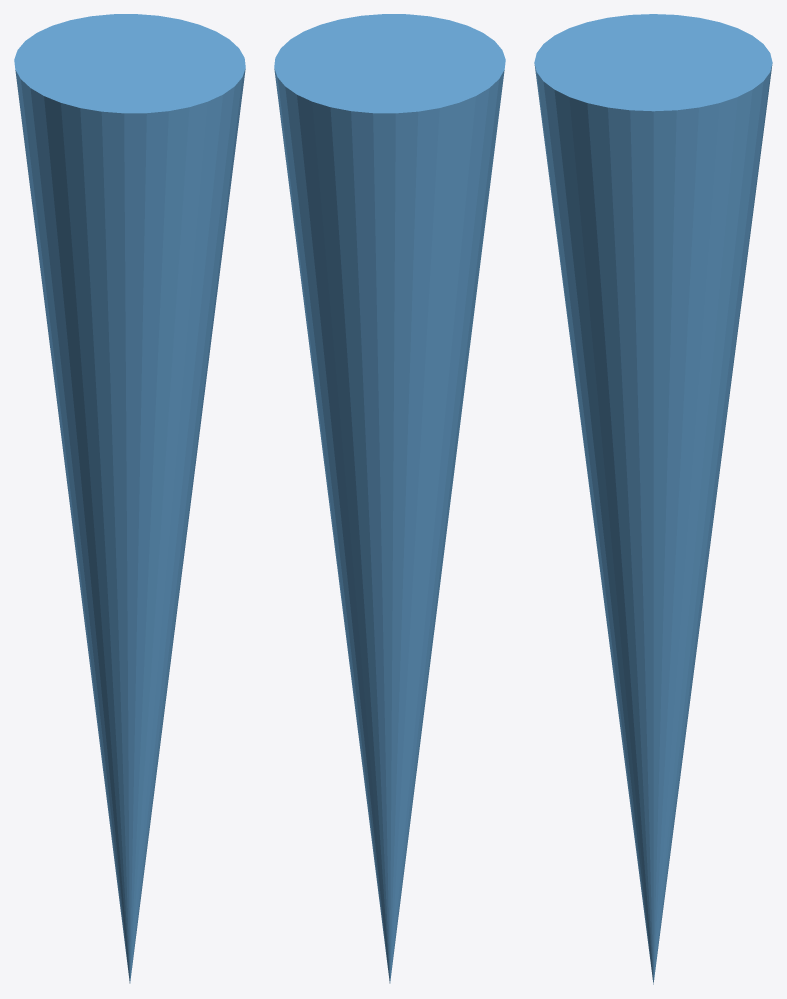
File: poi_cone.fbx
3 views of the same model, side by side, from view 1: azimuth 30°, elevation 25°; view 2: azimuth 150°, elevation 25°; view 3: azimuth 270°, elevation 25° (orthographic).
Visible parts, largest first — view 1: Cone; view 2: Cone; view 3: Cone.
Part boxes in pixels (bbox=[...]): Cone: bbox=[14, 14, 245, 983]; Cone: bbox=[274, 14, 505, 983]; Cone: bbox=[534, 14, 772, 984].
Size of the model in its own units: 45.22 by 200 by 46.82.
